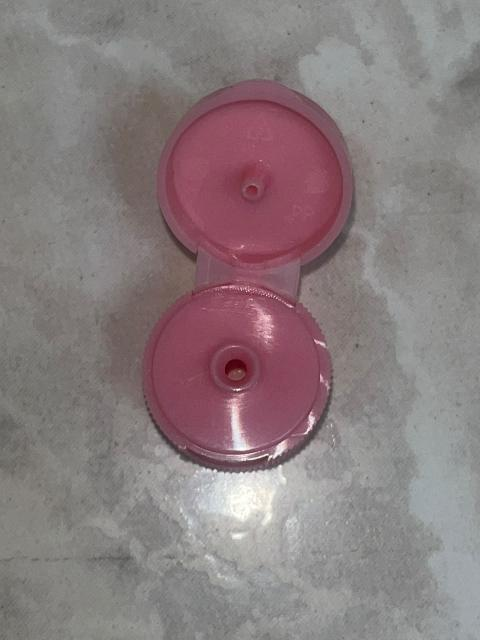HDPE: (92, 32, 405, 510)
